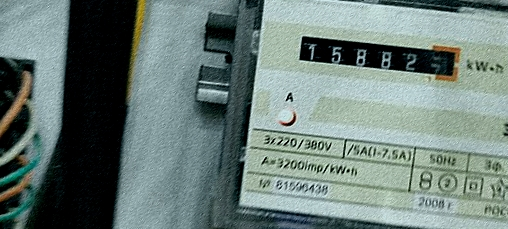1: (305, 41, 316, 60)
2: (403, 51, 417, 72)
5: (327, 44, 343, 64)
7: (427, 61, 440, 74)
8: (377, 48, 393, 70), (353, 46, 368, 67)
screen: (292, 27, 464, 86)
